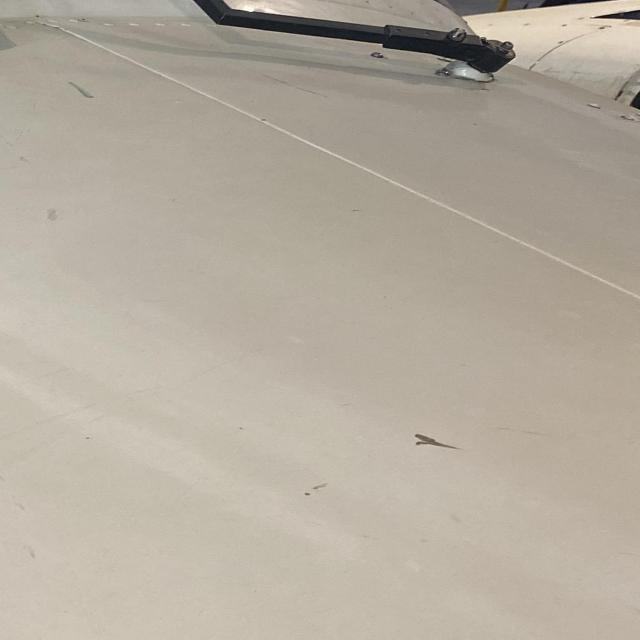Paint-off: (415, 434, 458, 452), (64, 77, 94, 102)
Scratch: (245, 66, 333, 101)
